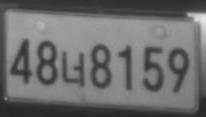1: (115, 44, 140, 90)
4: (9, 37, 32, 84)
5: (143, 45, 165, 92)
8: (89, 42, 112, 89), (36, 39, 58, 85)
9: (167, 46, 189, 92)
너: (61, 50, 85, 87)
